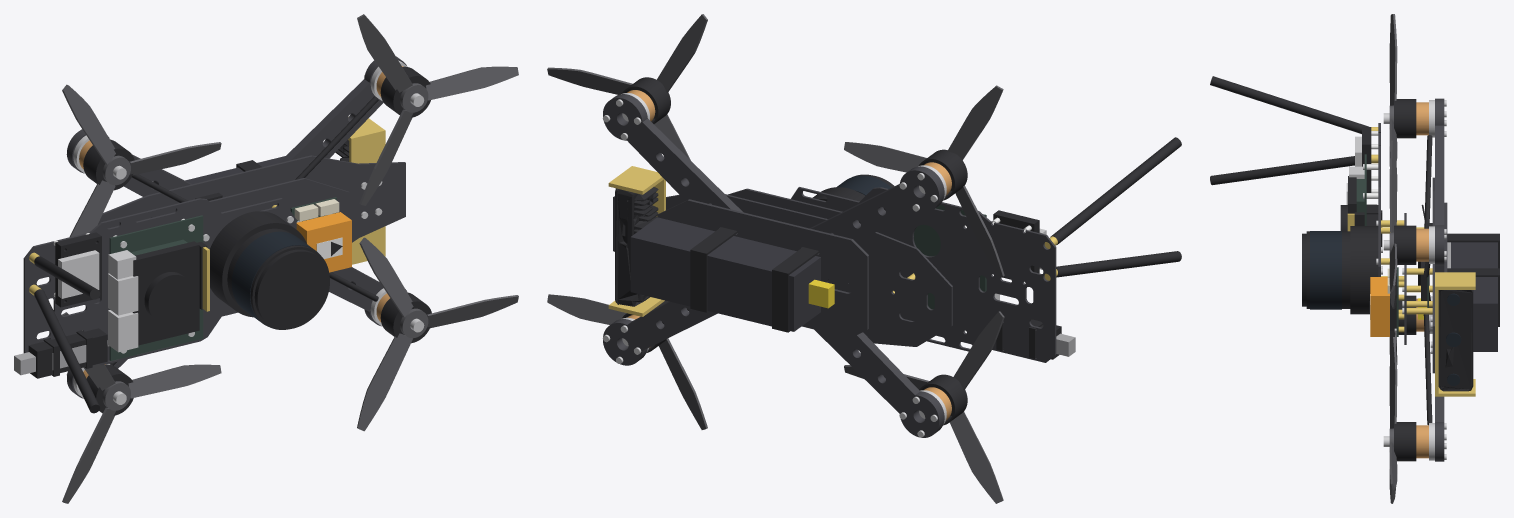
The model's file is aos7v5_cad.glb.
The picture shows the model from 3 angles, left to right: view 1: azimuth 30°, elevation 25°; view 2: azimuth 150°, elevation 25°; view 3: azimuth 270°, elevation 25°; orthographic projection. The views are drawn at different scales.
Parts seen in each view (by area): view 1: base_link/carbon, l2_link/black, payload_deck_link/carbon, jetson_link/black, rotor_0/prop, rotor_2/prop, rotor_1/prop, rotor_3/prop, radio_link/black, jetson_link/pcb, jetson_link/alu, l2_link/glass (+11 smaller); view 2: base_link/carbon, payload_deck_link/carbon, battery_link/lipo, rotor_1/prop, radio_link/black, rotor_3/prop, base_link/black, rotor_2/prop, oak_d_link/black, rotor_0/prop, oak_bracket_link/gold, jetson_link/pcb (+4 smaller); view 3: radio_link/black, l2_link/black, base_link/carbon, oak_d_link/black, battery_link/lipo, l2_link/glass, oak_bracket_link/gold, harness_link/black, rotor_2/prop, rotor_0/prop, cube_carrier_link/orange, base_link/black (+13 smaller).
Boxes of the visible parts, x1,y1,x2,y2 form: base_link/carbon: [67, 56, 406, 398]; l2_link/black: [210, 211, 329, 329]; payload_deck_link/carbon: [23, 198, 296, 365]; jetson_link/black: [132, 241, 207, 345]; rotor_0/prop: [357, 237, 518, 431]; rotor_2/prop: [357, 14, 518, 205]; rotor_1/prop: [62, 84, 221, 236]; rotor_3/prop: [61, 312, 221, 503]; radio_link/black: [34, 232, 101, 413]; jetson_link/pcb: [109, 215, 203, 360]; jetson_link/alu: [108, 250, 138, 352]; l2_link/glass: [231, 231, 319, 326]; base_link/carbon: [603, 94, 952, 437]; payload_deck_link/carbon: [791, 187, 1056, 362]; battery_link/lipo: [630, 217, 820, 331]; rotor_1/prop: [844, 85, 1004, 277]; radio_link/black: [993, 137, 1181, 279]; rotor_3/prop: [844, 311, 1004, 503]; base_link/black: [690, 227, 819, 332]; rotor_2/prop: [547, 14, 707, 181]; oak_d_link/black: [615, 187, 658, 306]; rotor_0/prop: [547, 294, 707, 429]; oak_bracket_link/gold: [608, 166, 665, 316]; jetson_link/pcb: [914, 204, 986, 309]; radio_link/black: [1210, 76, 1371, 192]; l2_link/black: [1302, 226, 1378, 314]; base_link/carbon: [1404, 98, 1447, 461]; oak_d_link/black: [1438, 290, 1473, 391]; battery_link/lipo: [1451, 242, 1497, 351]; l2_link/glass: [1310, 231, 1341, 309]; oak_bracket_link/gold: [1435, 272, 1475, 396]; harness_link/black: [1423, 135, 1432, 425]; rotor_2/prop: [1389, 140, 1397, 308]; rotor_0/prop: [1389, 337, 1397, 503]; cube_carrier_link/orange: [1370, 277, 1389, 336]; base_link/black: [1447, 233, 1499, 326].
Bounding box in the file's own units: 0.4539 × 0.342 × 0.2461.
